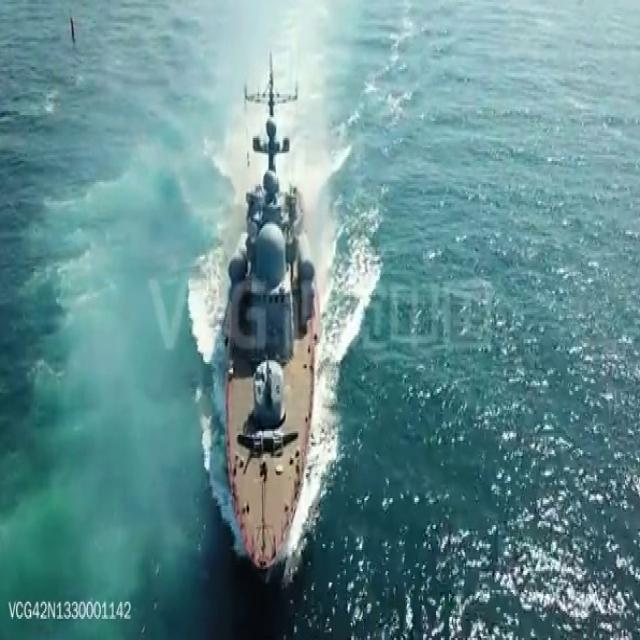navalvessels: (214, 53, 324, 574)
